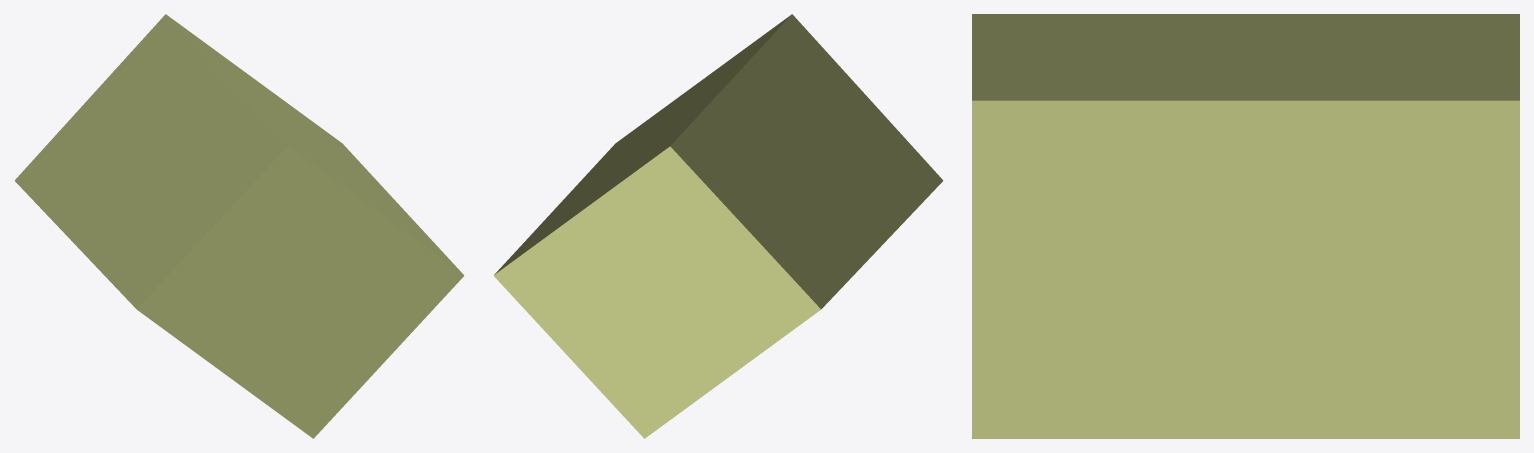
The picture shows the model from 3 angles, left to right: view 1: azimuth 30°, elevation 25°; view 2: azimuth 150°, elevation 25°; view 3: azimuth 270°, elevation 25°; orthographic projection. The views are drawn at different scales.
Parts seen in each view (by area): view 1: 0_2_0_1_1_1_1_1_0_1_3; view 2: 0_2_0_1_1_1_1_1_0_1_3; view 3: 0_2_0_1_1_1_1_1_0_1_3.
Boxes of the visible parts, x1=… form: 0_2_0_1_1_1_1_1_0_1_3: x1=14, y1=14, x2=464, y2=438; 0_2_0_1_1_1_1_1_0_1_3: x1=493, y1=14, x2=943, y2=438; 0_2_0_1_1_1_1_1_0_1_3: x1=972, y1=14, x2=1519, y2=438.
Size of the model in its own units: 5.36 by 5.4 by 6.
